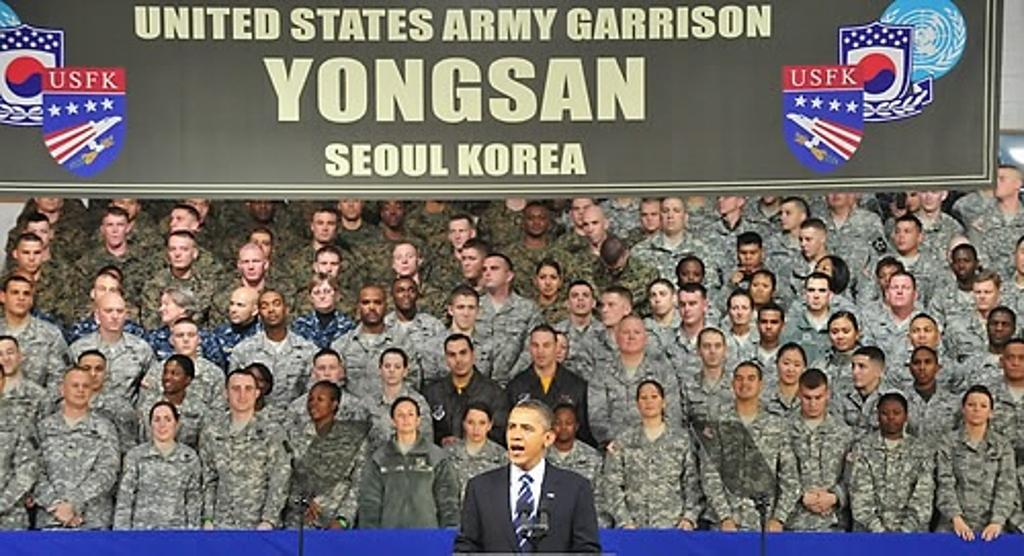face: (506, 412, 543, 462), (227, 376, 254, 410), (445, 342, 471, 375), (699, 335, 725, 367), (619, 322, 644, 354), (79, 357, 103, 390), (359, 291, 382, 325), (778, 352, 803, 383), (67, 373, 90, 406), (732, 369, 758, 398), (530, 335, 554, 366), (151, 409, 175, 440), (229, 292, 252, 324), (481, 259, 506, 288), (166, 239, 191, 268), (888, 276, 912, 306), (600, 295, 624, 325), (314, 356, 338, 386), (101, 301, 125, 331), (8, 284, 32, 314), (19, 243, 43, 273), (637, 386, 662, 414), (452, 301, 476, 330), (240, 253, 264, 282), (879, 403, 902, 433), (911, 353, 934, 383), (679, 292, 702, 322), (661, 200, 682, 232), (988, 316, 1011, 345), (799, 389, 824, 415), (828, 326, 854, 351), (184, 198, 209, 224), (306, 392, 330, 419), (311, 284, 335, 311), (798, 229, 821, 257), (162, 364, 185, 392), (395, 403, 417, 432), (460, 249, 481, 279), (911, 325, 935, 351), (851, 361, 875, 387), (964, 397, 987, 424), (261, 298, 284, 325), (895, 222, 917, 250), (758, 312, 780, 340), (569, 286, 591, 314), (394, 248, 416, 276), (103, 219, 125, 247), (807, 280, 828, 309), (382, 199, 403, 228), (677, 265, 701, 290), (778, 204, 801, 230), (639, 204, 662, 230), (96, 282, 119, 308), (536, 268, 558, 295), (466, 413, 488, 440), (313, 216, 335, 243), (582, 217, 604, 243), (525, 210, 547, 236), (174, 330, 196, 356), (993, 171, 1014, 198), (715, 187, 736, 214), (553, 414, 574, 441), (448, 221, 469, 248), (750, 276, 770, 304), (383, 356, 403, 384), (1004, 350, 1023, 379), (395, 281, 414, 310), (649, 288, 671, 313), (252, 195, 274, 220), (919, 184, 939, 211), (316, 256, 338, 280), (877, 267, 898, 292), (157, 296, 178, 321), (953, 252, 973, 278), (245, 372, 265, 398), (729, 302, 751, 325), (169, 215, 191, 238), (38, 188, 61, 210), (341, 195, 362, 219), (974, 283, 994, 308), (249, 237, 271, 259), (826, 184, 849, 205), (115, 197, 136, 220), (899, 187, 919, 211), (759, 179, 779, 203), (1, 345, 17, 374), (571, 203, 592, 225), (738, 247, 758, 270), (813, 262, 832, 285), (28, 226, 48, 247), (605, 260, 627, 276), (551, 338, 565, 363), (1017, 246, 1024, 273)
